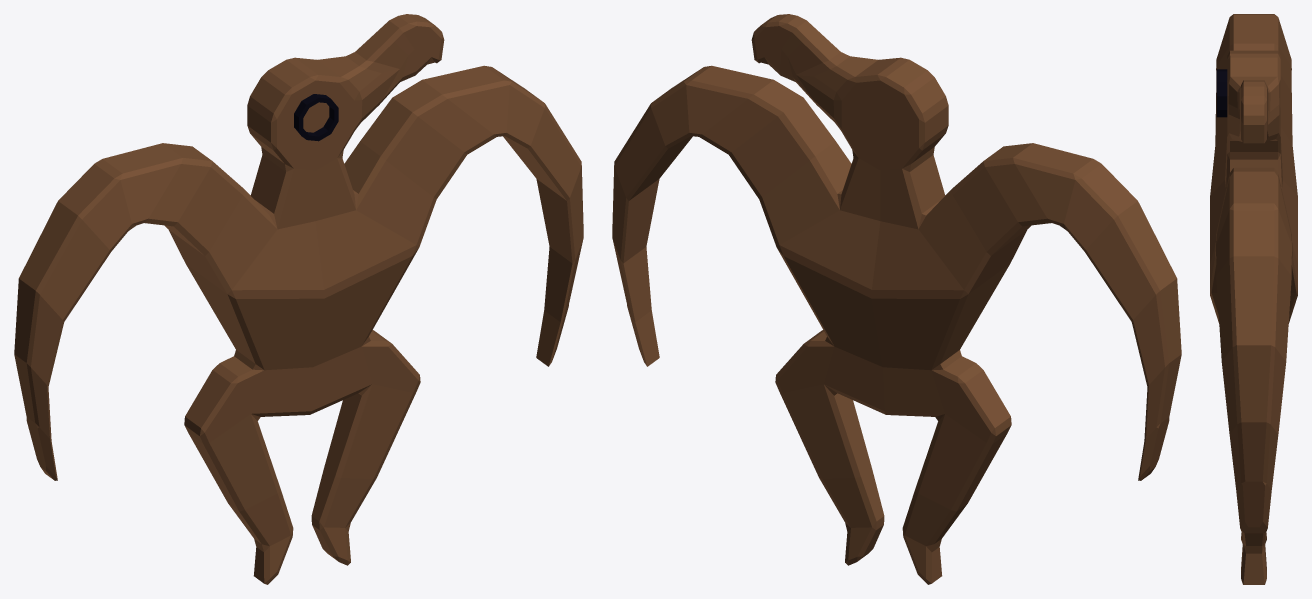
File: MakeMake.fbx
3 renders of one model, left to right at view 1: azimuth 30°, elevation 25°; view 2: azimuth 150°, elevation 25°; view 3: azimuth 270°, elevation 25°, orthographic.
Visible parts, largest first — view 1: Cylinder, Cylinder.001; view 2: Cylinder; view 3: Cylinder, Cylinder.001.
Boxes of the visible parts, left/top/right/bottom form: Cylinder: left=14, top=14, right=583, bottom=584; Cylinder.001: left=294, top=94, right=338, bottom=141; Cylinder: left=612, top=14, right=1181, bottom=584; Cylinder: left=1210, top=14, right=1297, bottom=584; Cylinder.001: left=1216, top=69, right=1227, bottom=117.
Size of the model in its own units: 1224 by 1107 by 165.
